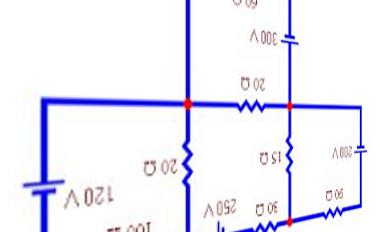resistor: (172, 129, 195, 194), (232, 92, 269, 122), (278, 129, 296, 178), (312, 201, 345, 227)
